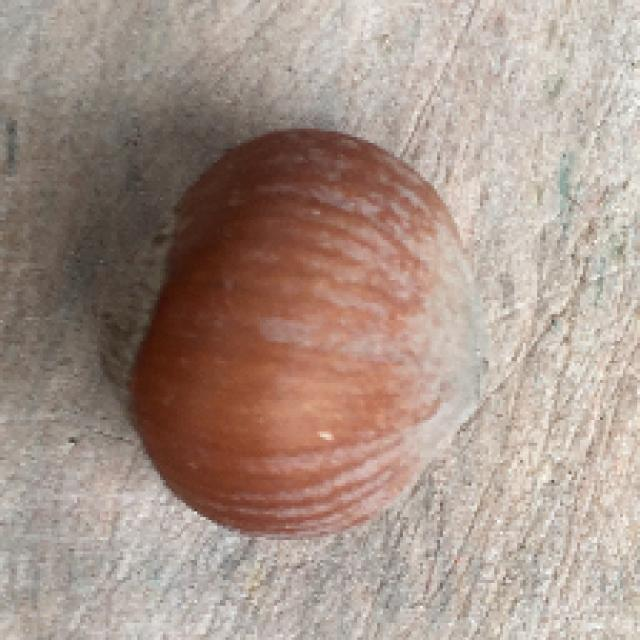qualityHazelnut: (93, 123, 495, 546)
